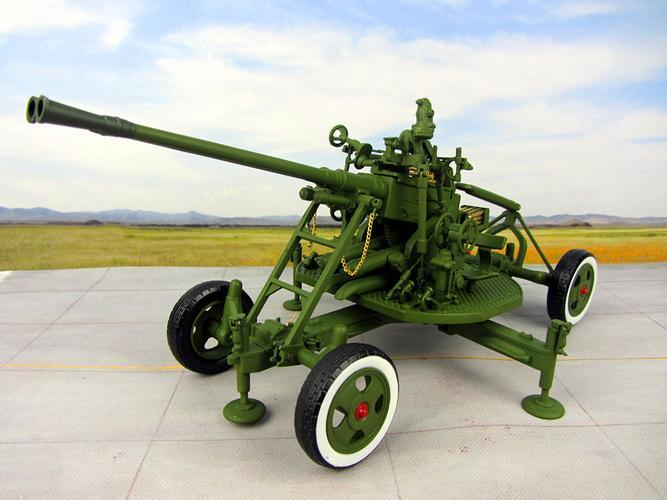MIL_SPG: (26, 96, 595, 468)
